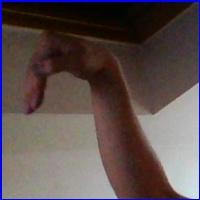A: (20, 31, 118, 125)
